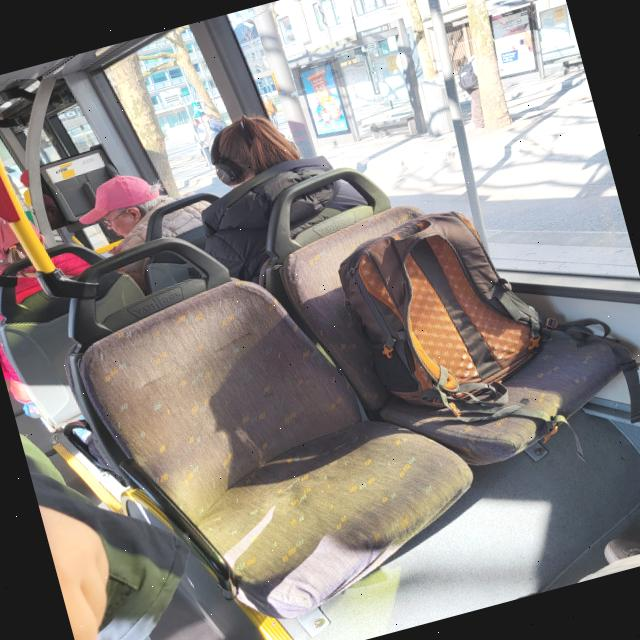empty-seat-frontal: (40, 178, 496, 640)
